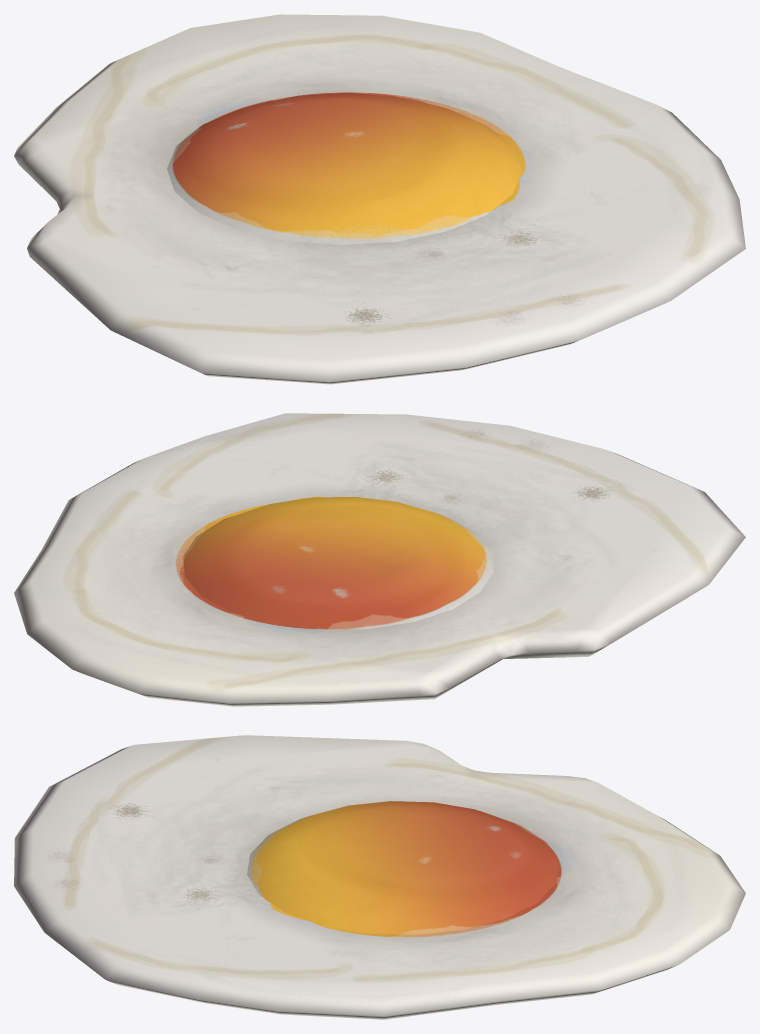
3 views of the same model, one above another, from view 1: azimuth 30°, elevation 25°; view 2: azimuth 150°, elevation 25°; view 3: azimuth 270°, elevation 25° (orthographic). The views are drawn at different scales.
Parts seen in each view (by area): view 1: OVO_FRITO_LP; view 2: OVO_FRITO_LP; view 3: OVO_FRITO_LP.
Boxes of the visible parts, x1=… form: OVO_FRITO_LP: x1=14, y1=14, x2=745, y2=384; OVO_FRITO_LP: x1=14, y1=413, x2=745, y2=706; OVO_FRITO_LP: x1=14, y1=735, x2=745, y2=1019.
Size of the model in its own units: 3.63 by 0.3125 by 4.05.
1 material, 1 textured.
